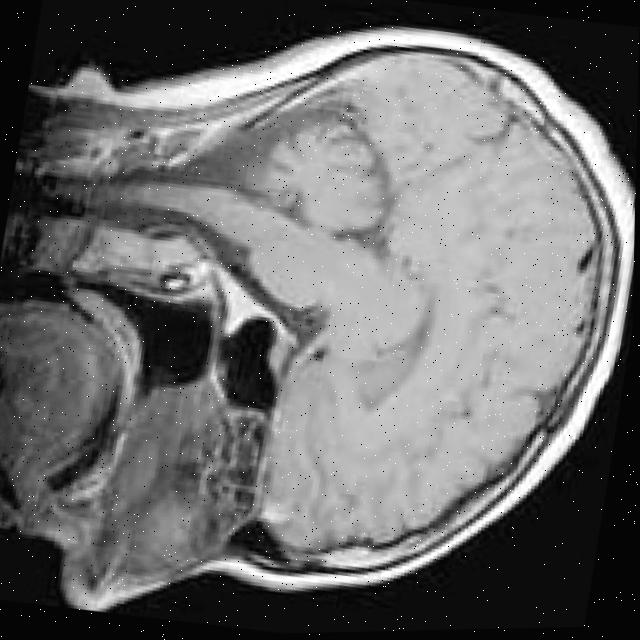NoTumor: (195, 2, 640, 635)
